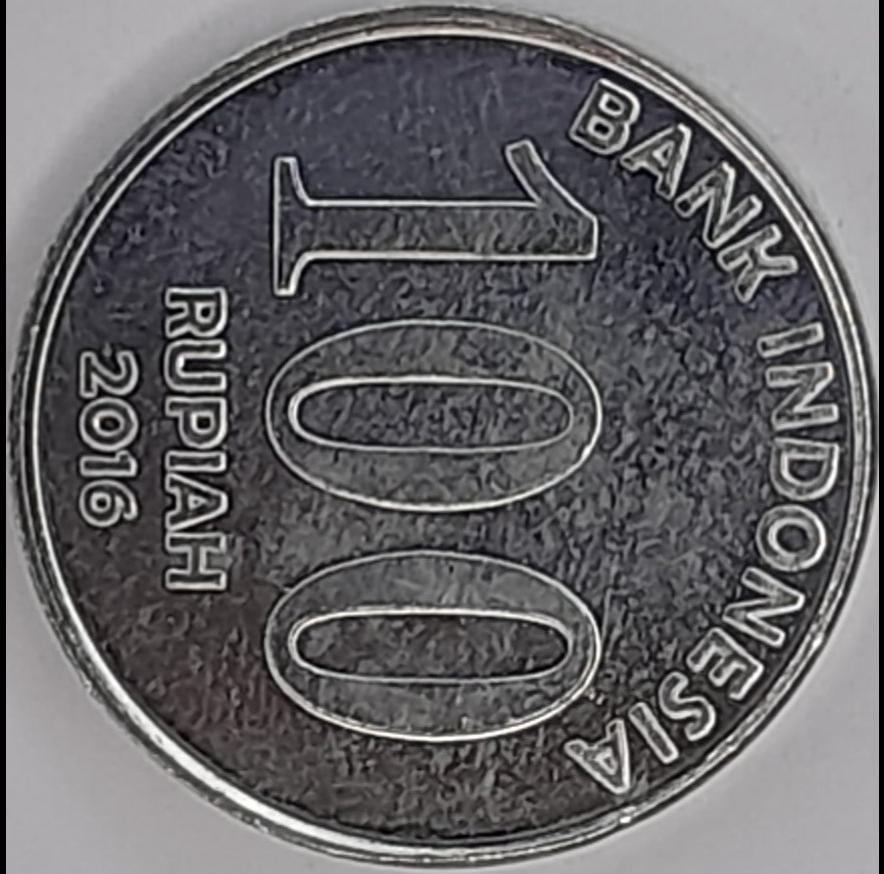coin_100_e2016: (7, 0, 879, 871)
